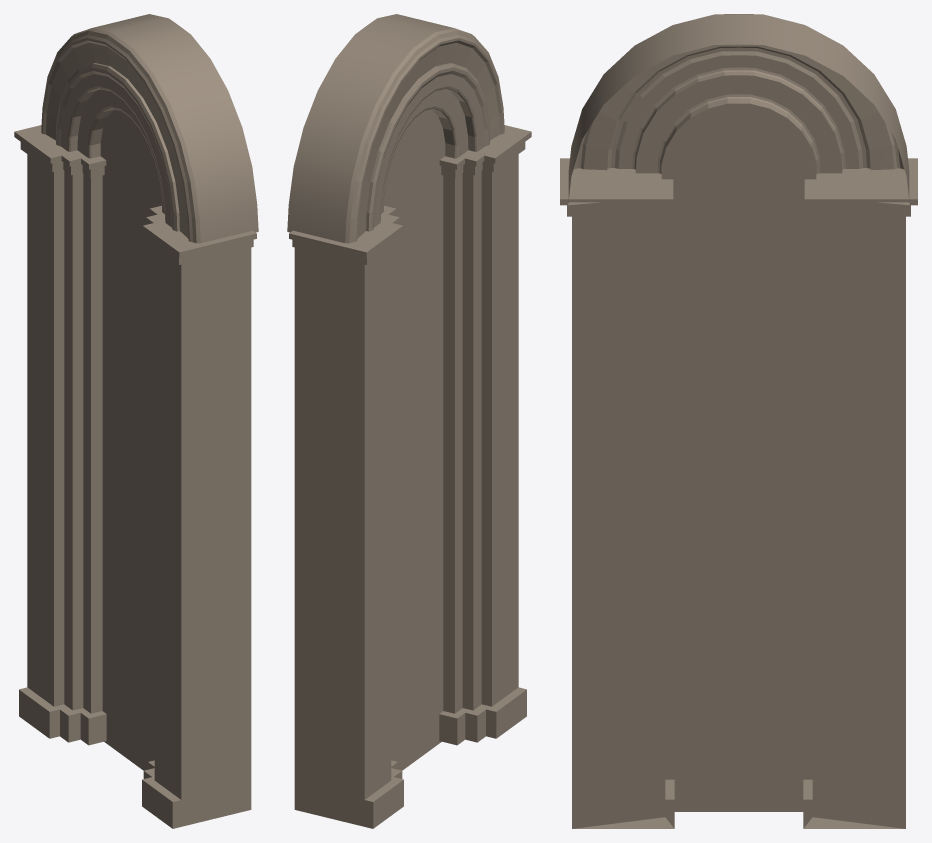
The model's file is BC_IndiseArcWindow_C.fbx.
The picture shows the model from 3 angles, left to right: view 1: azimuth 30°, elevation 25°; view 2: azimuth 150°, elevation 25°; view 3: azimuth 270°, elevation 25°; orthographic projection. The views are drawn at different scales.
Visible parts, largest first — view 1: BC_IndiseArcWindow_C; view 2: BC_IndiseArcWindow_C; view 3: BC_IndiseArcWindow_C.
Boxes of the visible parts, <box> form: BC_IndiseArcWindow_C: <box>14,14,258,828</box>; BC_IndiseArcWindow_C: <box>287,14,531,828</box>; BC_IndiseArcWindow_C: <box>560,14,917,828</box>.
Bounding box in the file's own units: 36.6 × 303 × 124.
